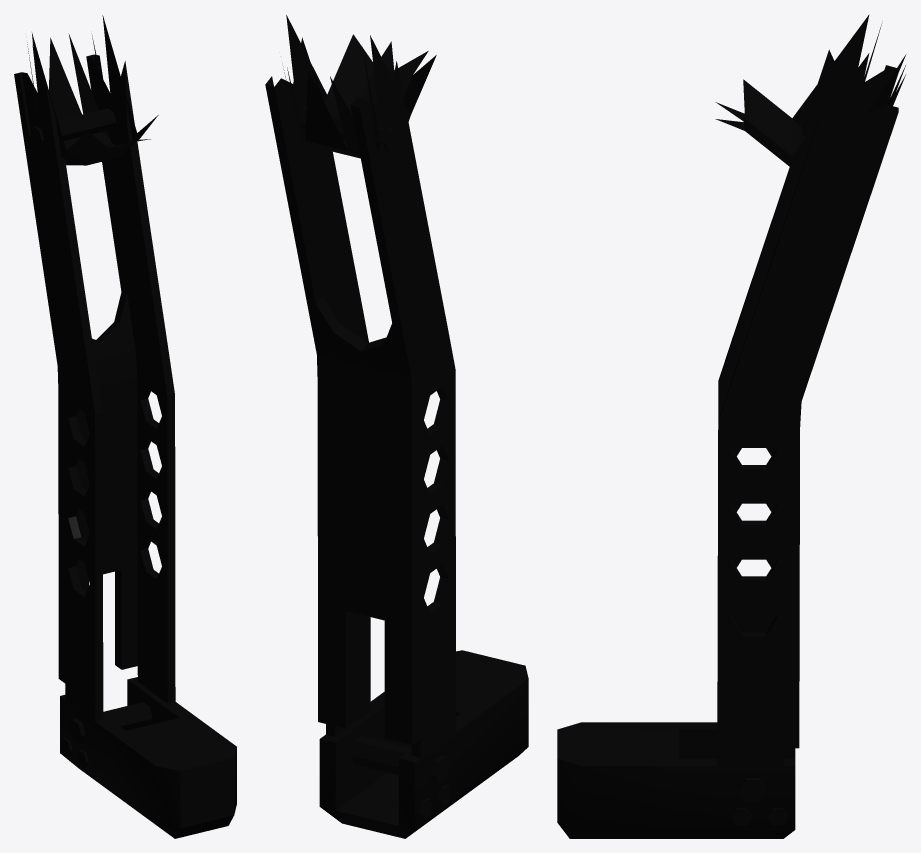
The model's file is Stock_SPAS_Folding.fbx.
The picture shows the model from 3 angles, left to right: view 1: azimuth 30°, elevation 25°; view 2: azimuth 150°, elevation 25°; view 3: azimuth 270°, elevation 25°; orthographic projection. The views are drawn at different scales.
Visible parts, largest first — view 1: asset_SPAS12.002; view 2: asset_SPAS12.002; view 3: asset_SPAS12.002.
Part boxes in pixels (x1,y1,x2,y2): asset_SPAS12.002: (14,15,236,838); asset_SPAS12.002: (265,15,528,838); asset_SPAS12.002: (557,14,906,838).
Size of the model in its own units: 0.0266 by 0.2032 by 0.0814.
